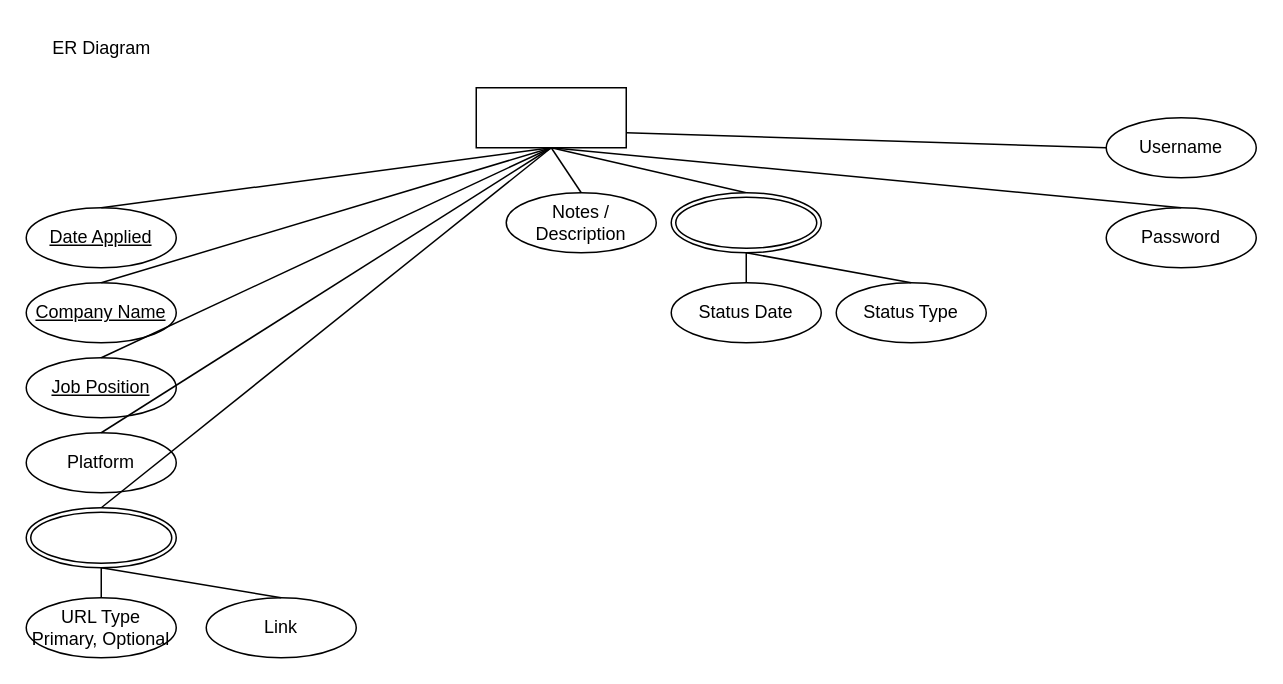
Some shapes in this 1283 by 684 pixel diagram are drawn without their labels. The box of each missing label's shape, as (x1, y1, x2, y2) in pixels:
Job Tracker: (475, 86, 626, 148)
Status: (670, 191, 821, 253)
URL: (25, 506, 176, 568)
